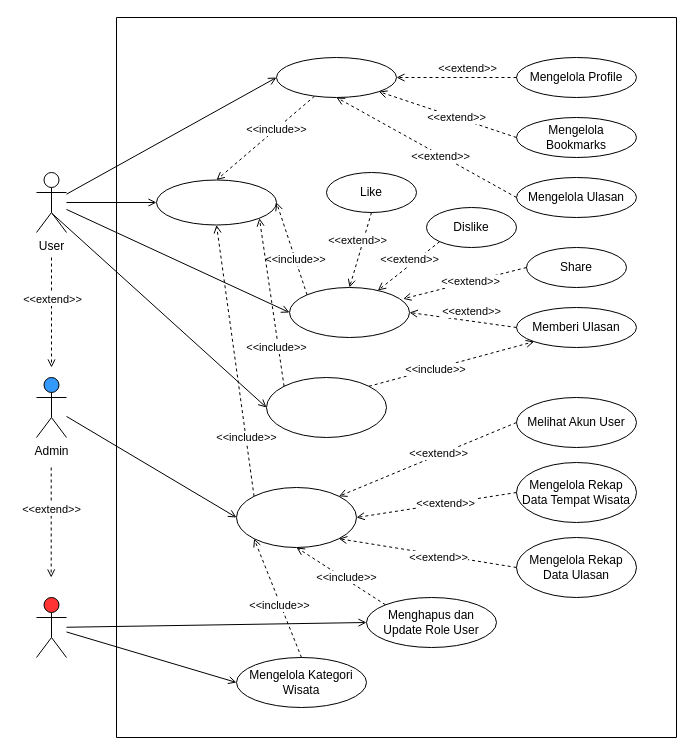
Some shapes in this 694 by 755 pixel diagram are drawn without their labels. The centre of each missing label's shape, as x and y in pixels:
Dashboard Admin: (x=296, y=517)
Kontribusi (Mengelola Tempat Wisata): (x=326, y=407)
Login: (x=216, y=202)
Profile: (x=336, y=77)
Super Admin: (x=51, y=627)
Tempat Wisata: (x=349, y=312)
